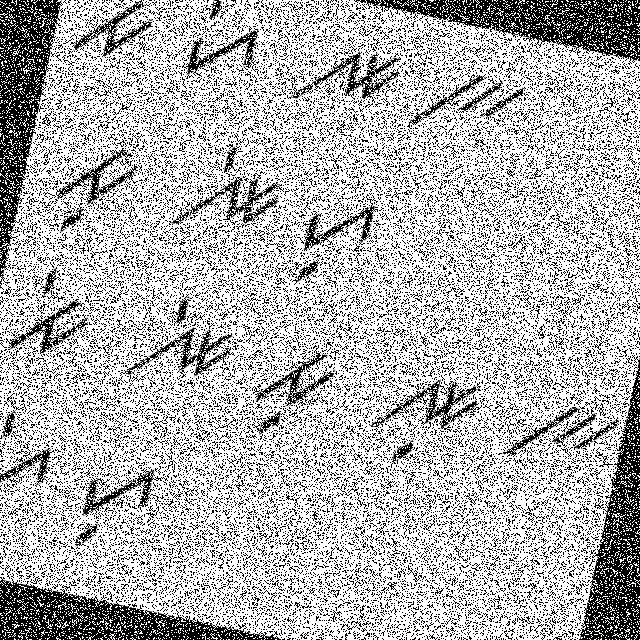he: (166, 0, 279, 94), (0, 398, 69, 517)
hu: (60, 444, 164, 568), (282, 178, 384, 302)
mbe: (6, 253, 105, 369), (65, 0, 166, 69)
mbu: (38, 126, 149, 247), (245, 330, 346, 455)
nda: (279, 19, 412, 133)
nde: (110, 280, 245, 408), (159, 125, 295, 252)
ndu: (357, 348, 488, 488)
